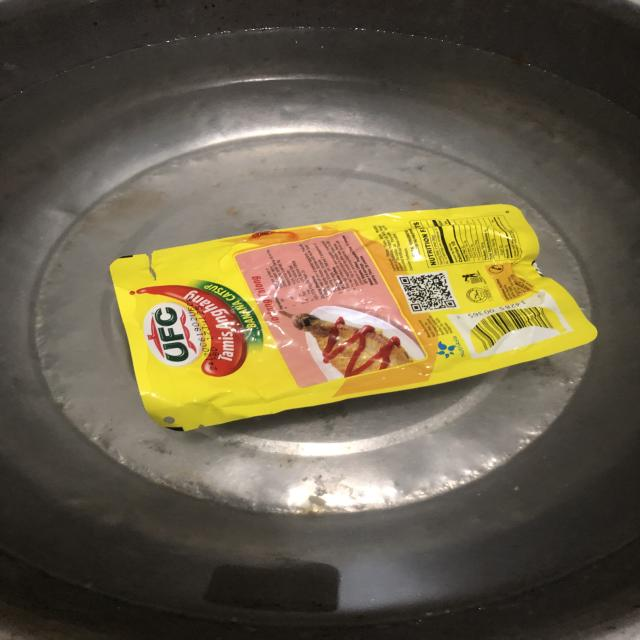Plastic Pouch: (112, 191, 610, 449)
